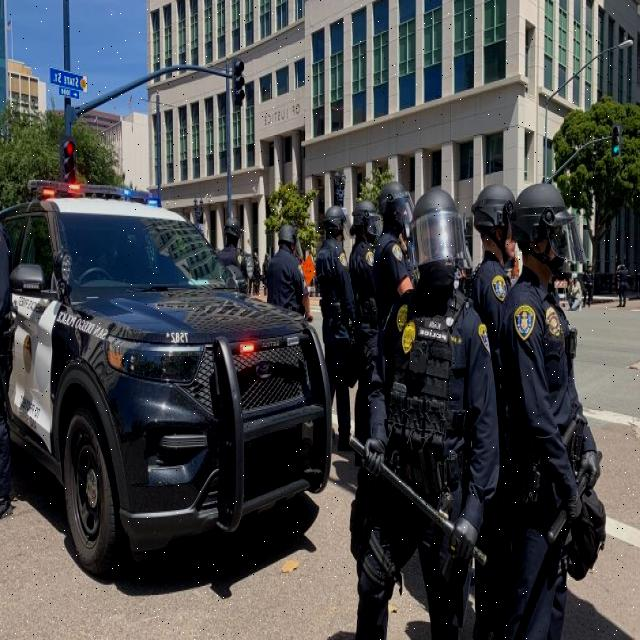police: (345, 195, 495, 640), (498, 172, 617, 640), (310, 179, 410, 432), (0, 150, 17, 567)
